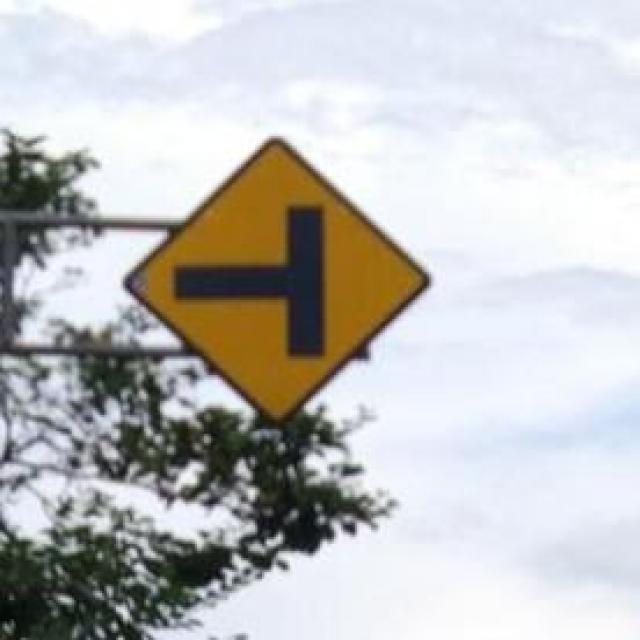traffic sign: (132, 138, 422, 412)
